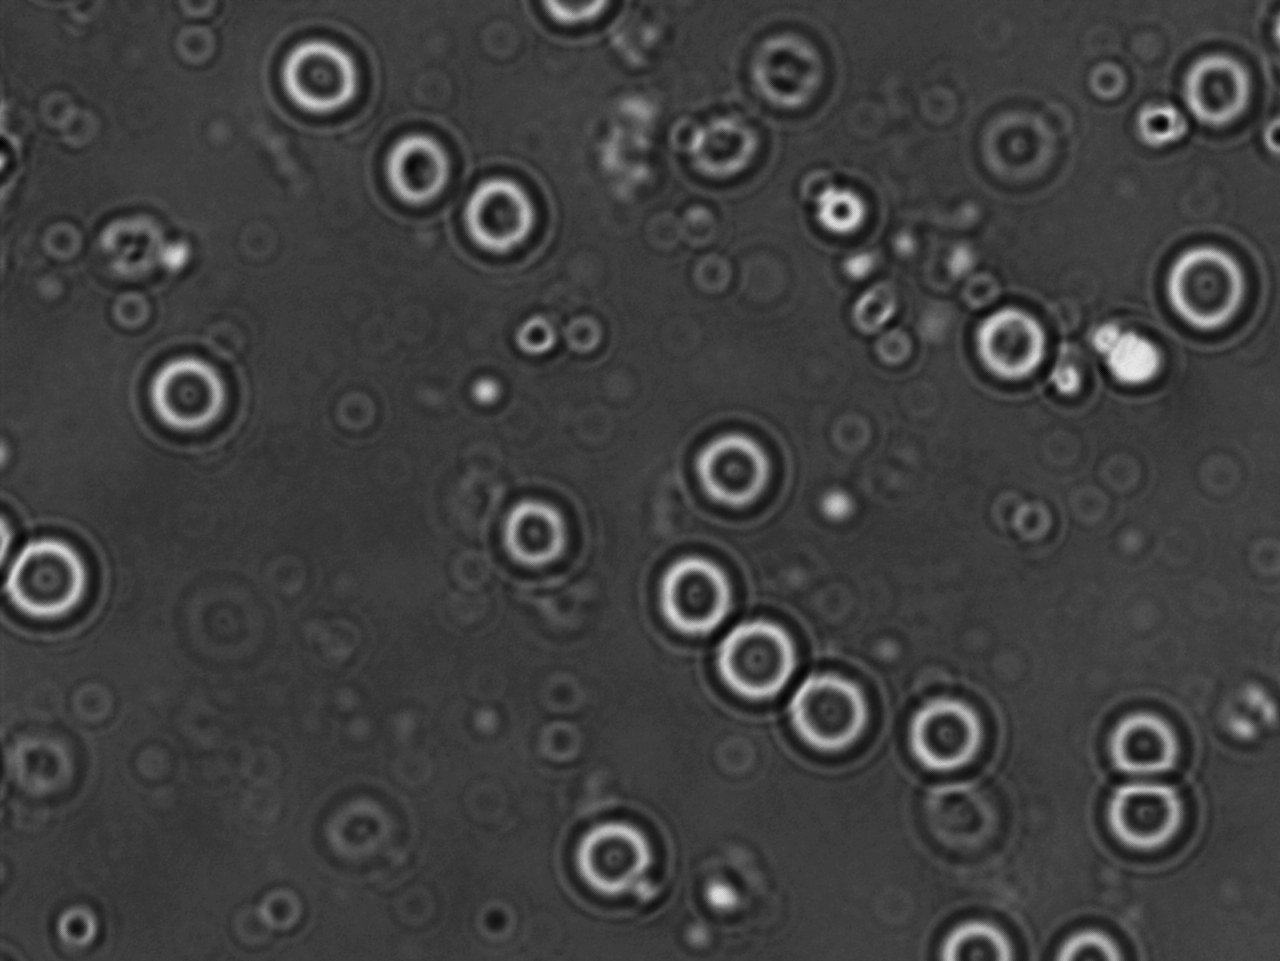depth:8: (1143, 233, 1263, 343), (259, 16, 375, 127), (129, 337, 245, 447), (896, 680, 1014, 788), (677, 415, 791, 523), (483, 479, 591, 591), (770, 656, 879, 765), (631, 536, 743, 641), (448, 156, 555, 265), (558, 800, 667, 906), (1089, 771, 1205, 867), (3, 520, 110, 623), (703, 600, 808, 702), (363, 110, 467, 211), (1100, 690, 1201, 789), (1173, 38, 1267, 142), (957, 296, 1057, 392), (926, 895, 1036, 961), (1038, 903, 1140, 961)
